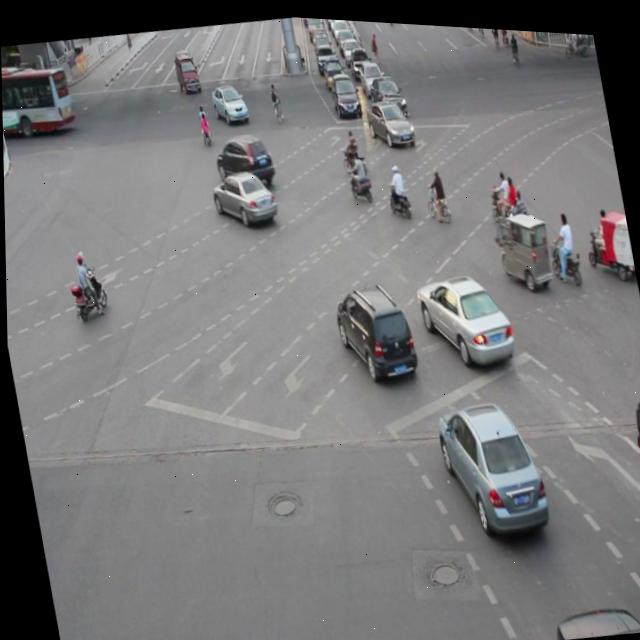bus: (620, 367, 640, 621)
car: (431, 385, 549, 536), (411, 259, 516, 369), (329, 272, 418, 381), (208, 162, 279, 231), (210, 125, 277, 190), (362, 92, 415, 146)
